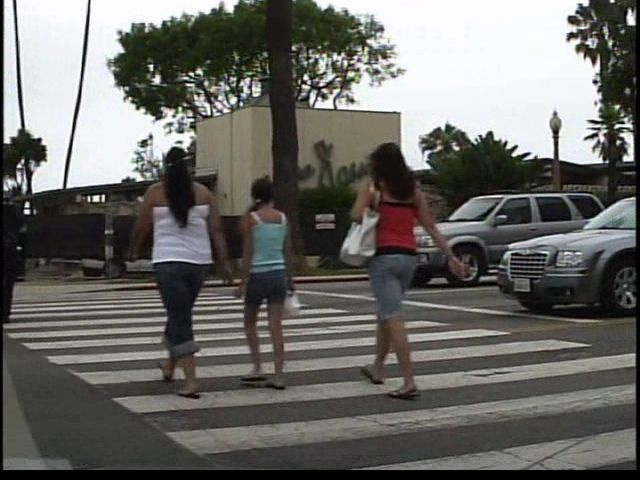person: (355, 129, 462, 397), (118, 138, 215, 404), (237, 172, 311, 396)
